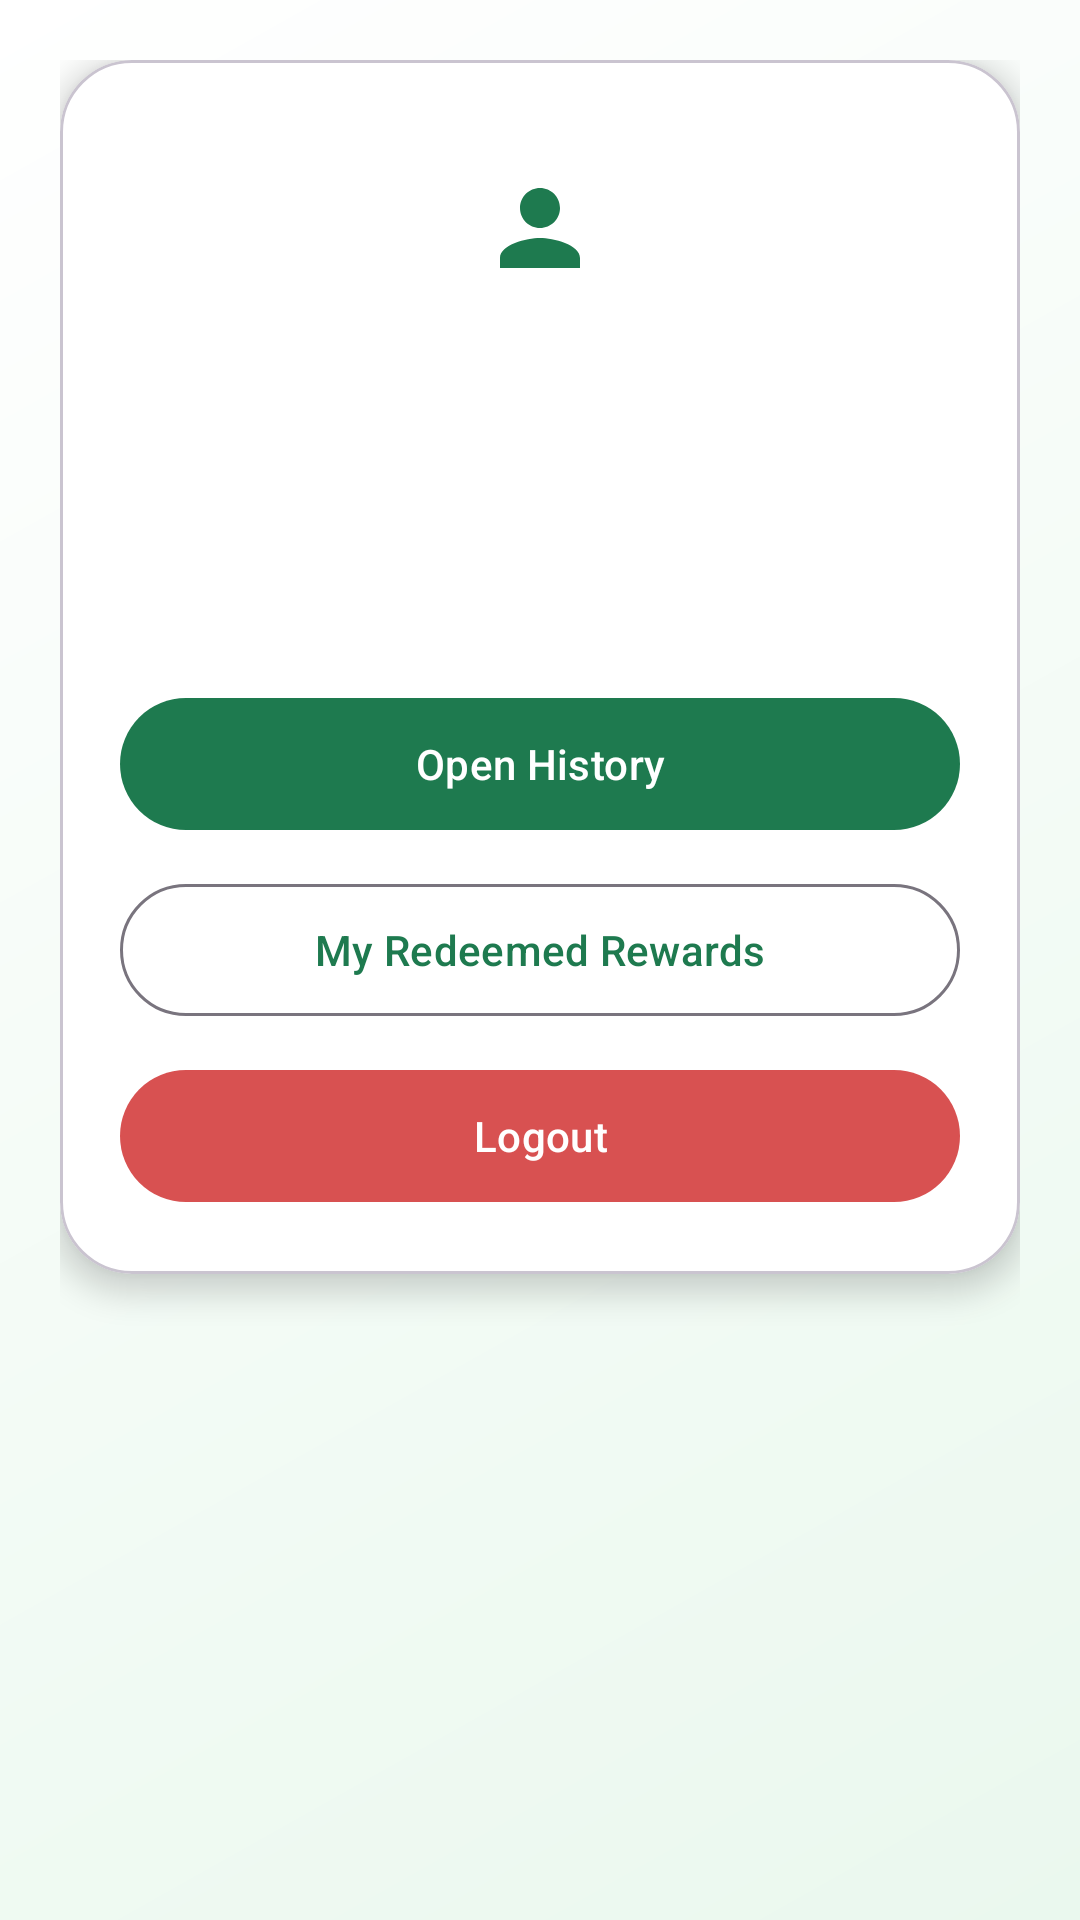

Point at icon controls on the screen. Image size 1080px x 1920px, points as (x,y).
profile: (540,228)
